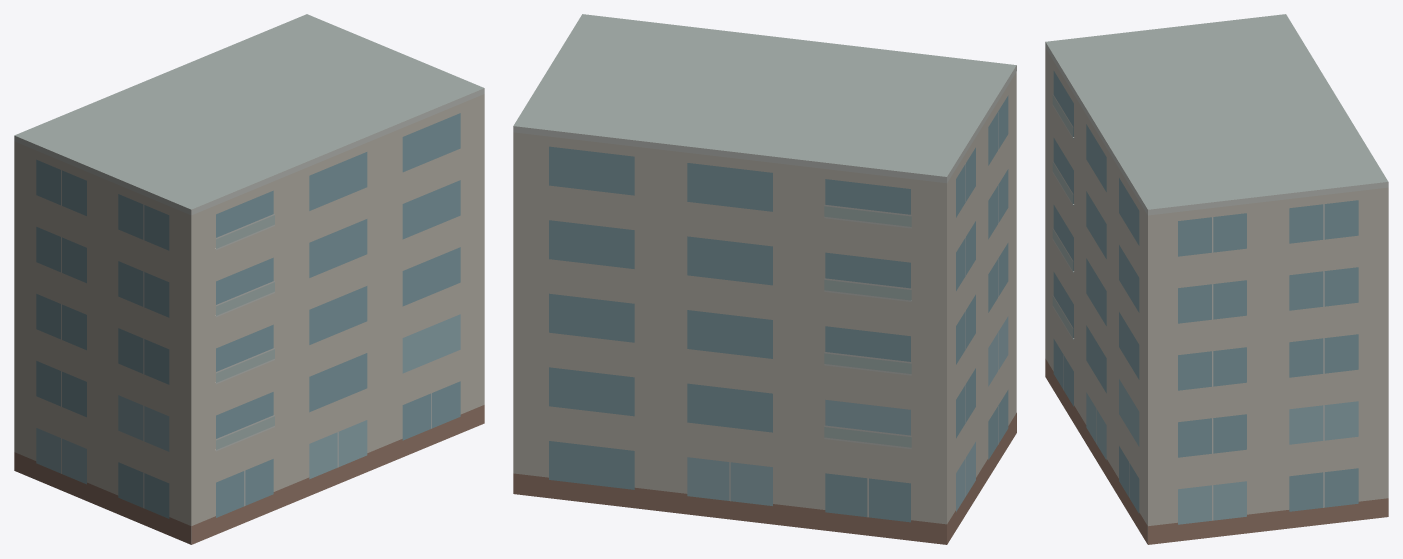
The model's file is survey-upis-32717066.glb.
3 views of the same model, side by side, from view 1: azimuth 30°, elevation 25°; view 2: azimuth 150°, elevation 25°; view 3: azimuth 270°, elevation 25° (orthographic). The views are drawn at different scales.
Parts seen in each view (by area): view 1: survey-upis-32717066.tmp; view 2: survey-upis-32717066.tmp; view 3: survey-upis-32717066.tmp.
Part boxes in pixels (bbox=[...]): survey-upis-32717066.tmp: bbox=[14, 14, 484, 544]; survey-upis-32717066.tmp: bbox=[513, 14, 1016, 544]; survey-upis-32717066.tmp: bbox=[1045, 14, 1388, 544].
Bounding box in the file's own units: 17.8 × 14.2 × 13.19.
